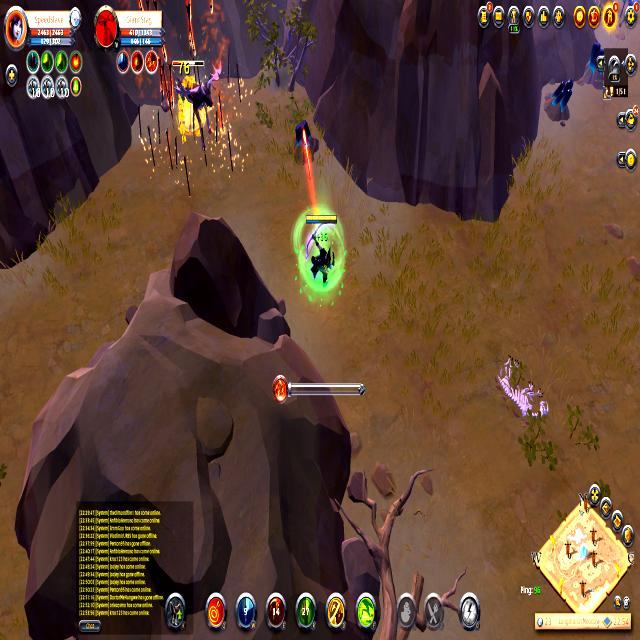ore: (168, 55, 224, 140)
player: (543, 70, 578, 124), (291, 115, 320, 171)
red: (302, 208, 338, 292)
